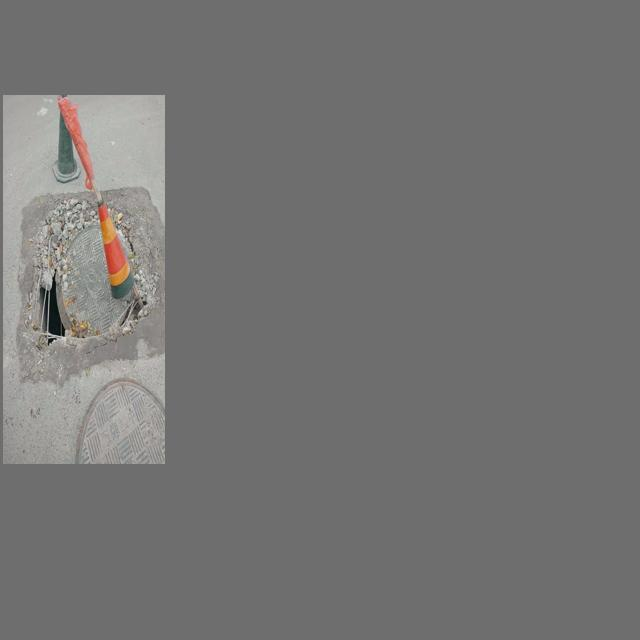circle: (38, 221, 141, 339)
